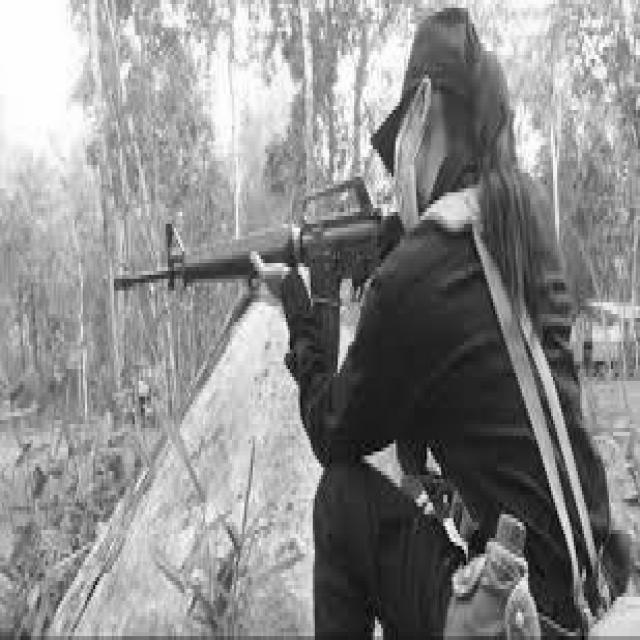gun: (111, 175, 406, 403)
